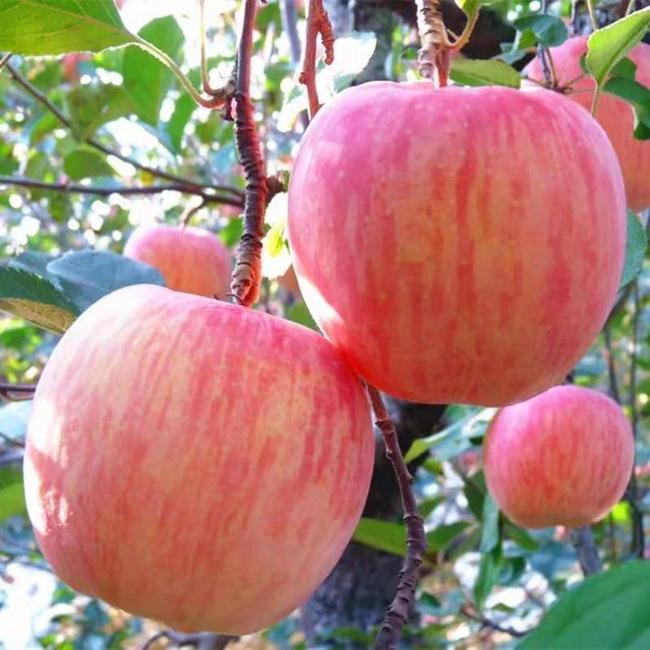apple: (24, 292, 381, 639), (279, 85, 636, 417), (480, 382, 632, 537), (57, 50, 97, 85)
